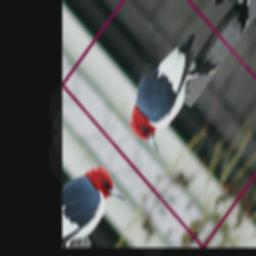Woodpecker: (114, 17, 225, 161)
